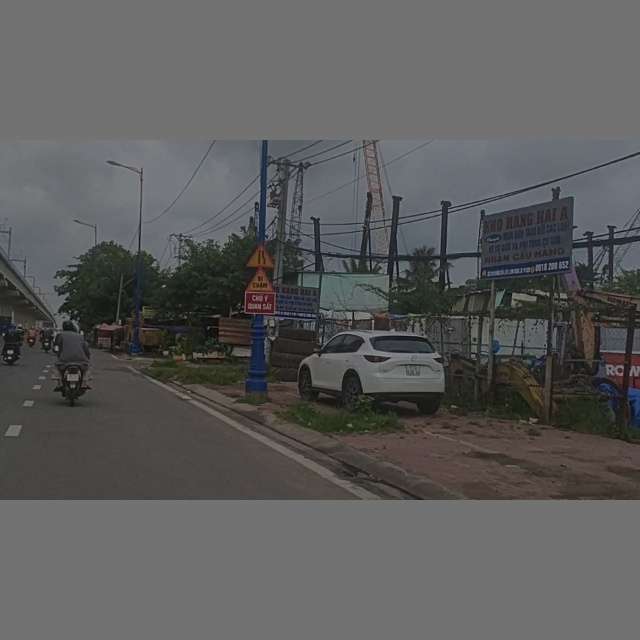W.203c: (246, 244, 276, 269)
W.245a: (246, 269, 279, 291)
